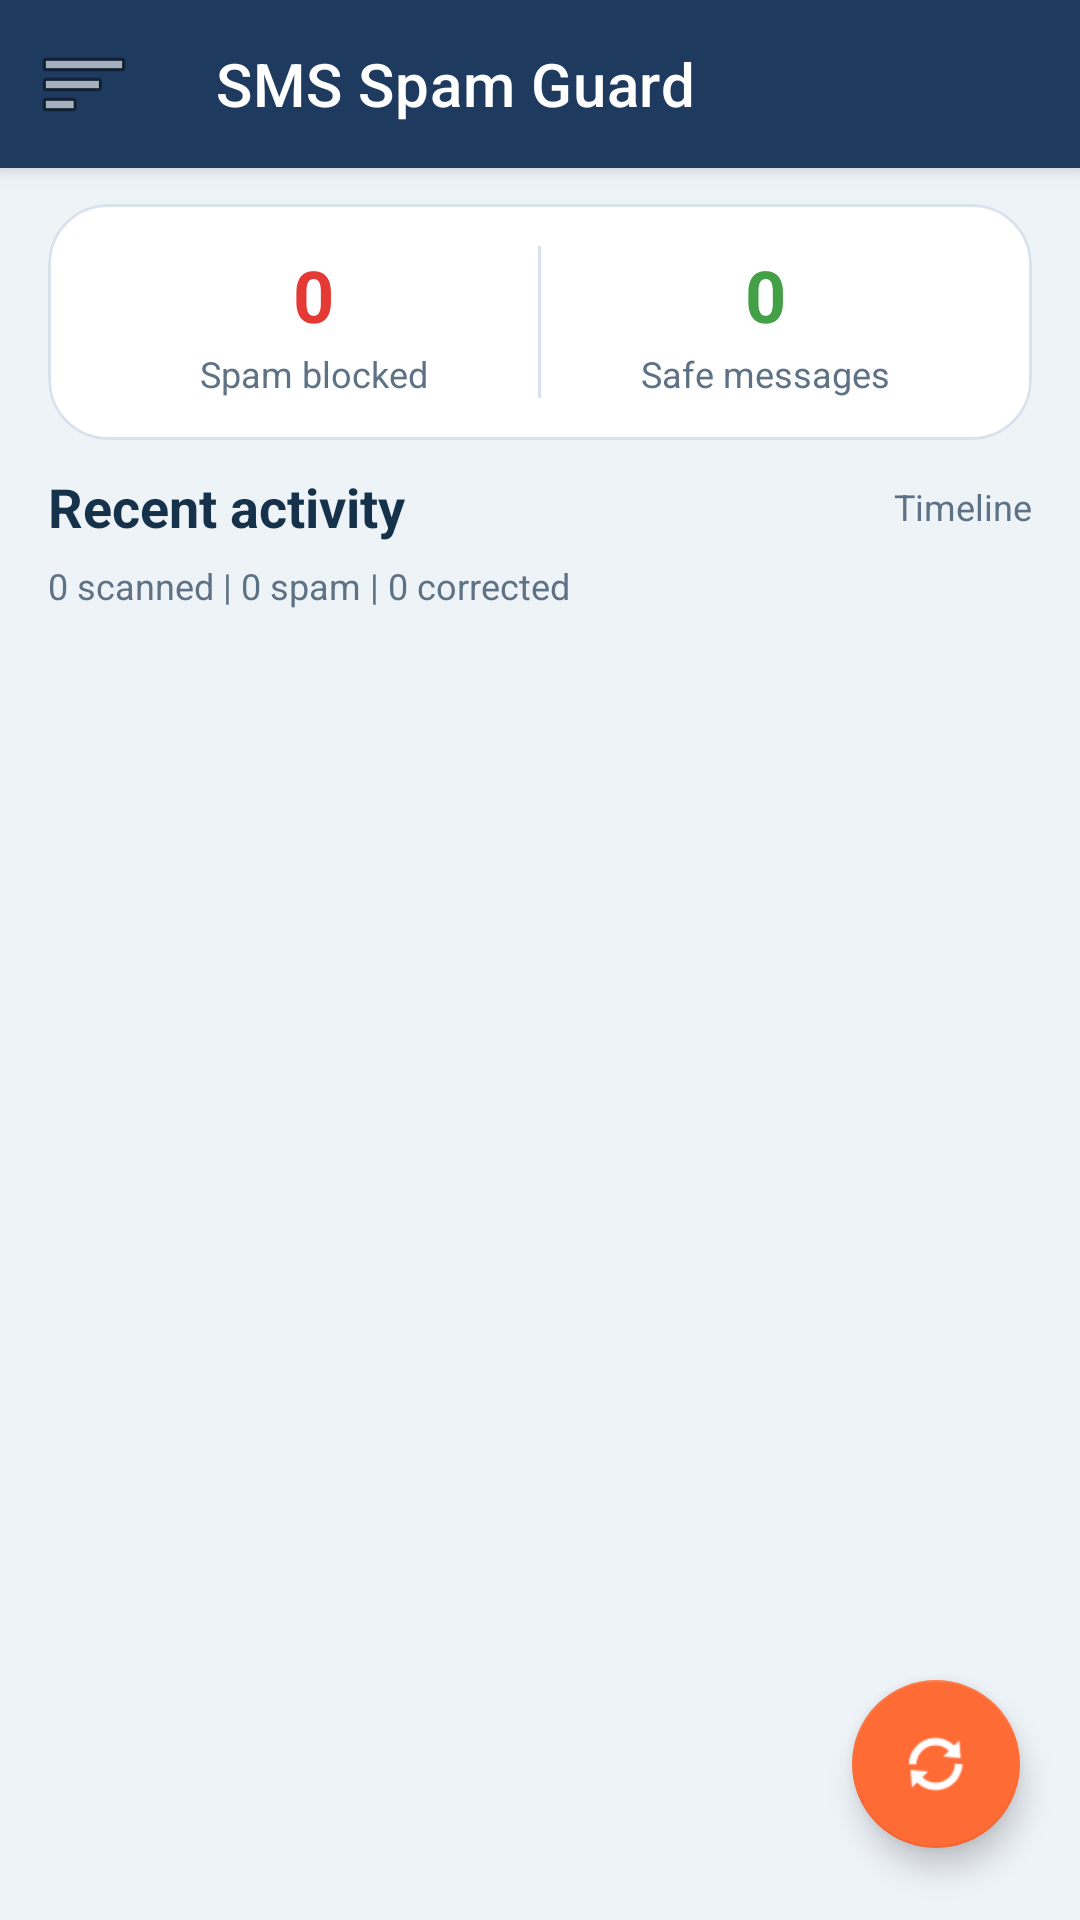

Locate icon controls on the screen. Image size 1080x1920, boxes as (x1, y1, x2, y2).
Scan inbox: (852, 1680, 1020, 1848)
